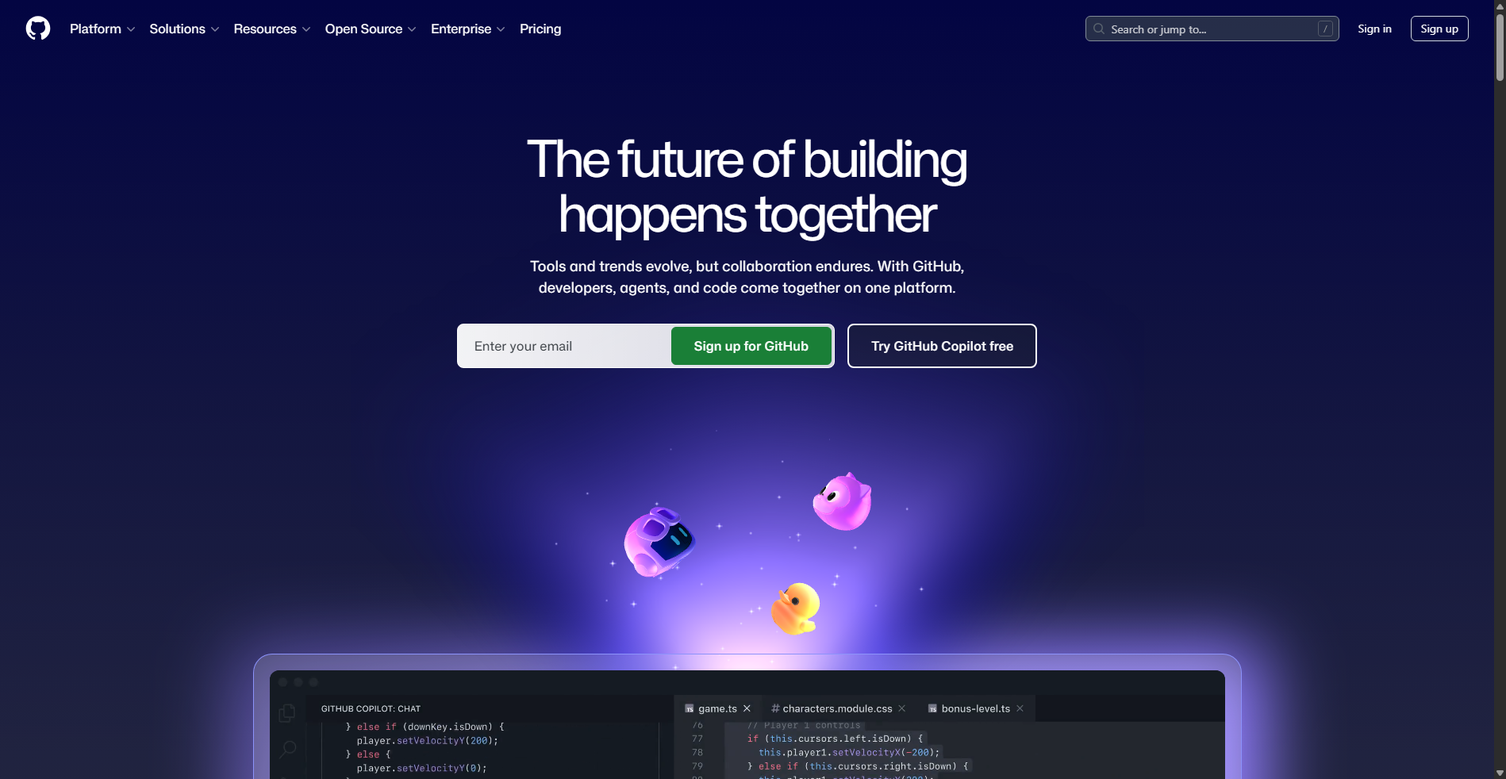general_button: (847, 324, 1037, 368), (671, 327, 832, 365), (319, 13, 425, 44), (227, 13, 319, 44), (425, 13, 514, 44), (143, 13, 227, 44), (63, 13, 143, 44), (124, 22, 137, 35), (208, 22, 221, 35), (494, 22, 507, 35), (300, 22, 312, 35), (406, 22, 418, 35)
general_input: (461, 328, 667, 364)
general_label: (474, 337, 572, 356)
general_link: (93, 320, 892, 339), (171, 289, 706, 307), (255, 289, 790, 307), (674, 94, 880, 129), (674, 145, 880, 180), (674, 196, 880, 231), (93, 94, 290, 129), (93, 145, 290, 180), (93, 196, 290, 231), (93, 247, 290, 282), (514, 94, 704, 129), (514, 145, 704, 180), (514, 196, 704, 231), (452, 94, 642, 129), (347, 94, 529, 129), (321, 94, 482, 129), (321, 145, 482, 180), (321, 196, 482, 231), (321, 247, 482, 282), (548, 94, 706, 113), (548, 128, 706, 147), (548, 163, 706, 182), (548, 197, 706, 216), (548, 232, 706, 251), (255, 94, 413, 113), (255, 128, 413, 147), (255, 163, 413, 182), (255, 197, 413, 216), (255, 232, 413, 251), (171, 94, 328, 113), (171, 128, 328, 147), (171, 163, 328, 182), (171, 197, 328, 216), (360, 94, 517, 113), (360, 128, 517, 147), (360, 163, 517, 182), (360, 197, 517, 216), (360, 232, 517, 251), (444, 94, 601, 113), (444, 128, 601, 147), (444, 163, 601, 182), (444, 197, 601, 216), (444, 232, 601, 251), (633, 94, 790, 113), (633, 128, 790, 147), (633, 163, 790, 182), (633, 197, 790, 216), (633, 232, 790, 251), (561, 94, 718, 113), (561, 128, 718, 147), (561, 163, 718, 182), (561, 197, 718, 216), (561, 232, 718, 251), (749, 94, 906, 113), (749, 128, 906, 147), (749, 163, 906, 182), (767, 94, 892, 113), (767, 128, 892, 147), (767, 163, 892, 182), (767, 197, 892, 216), (767, 232, 892, 251), (514, 13, 568, 44), (1446, 731, 1475, 760), (25, 15, 51, 42), (0, 0, 1, 1)
icon_menu: (319, 13, 425, 44), (227, 13, 319, 44), (425, 13, 514, 44), (143, 13, 227, 44), (63, 13, 143, 44), (1411, 16, 1469, 41), (1349, 16, 1401, 41)
icon_search: (1086, 17, 1338, 40), (1092, 22, 1105, 35)
